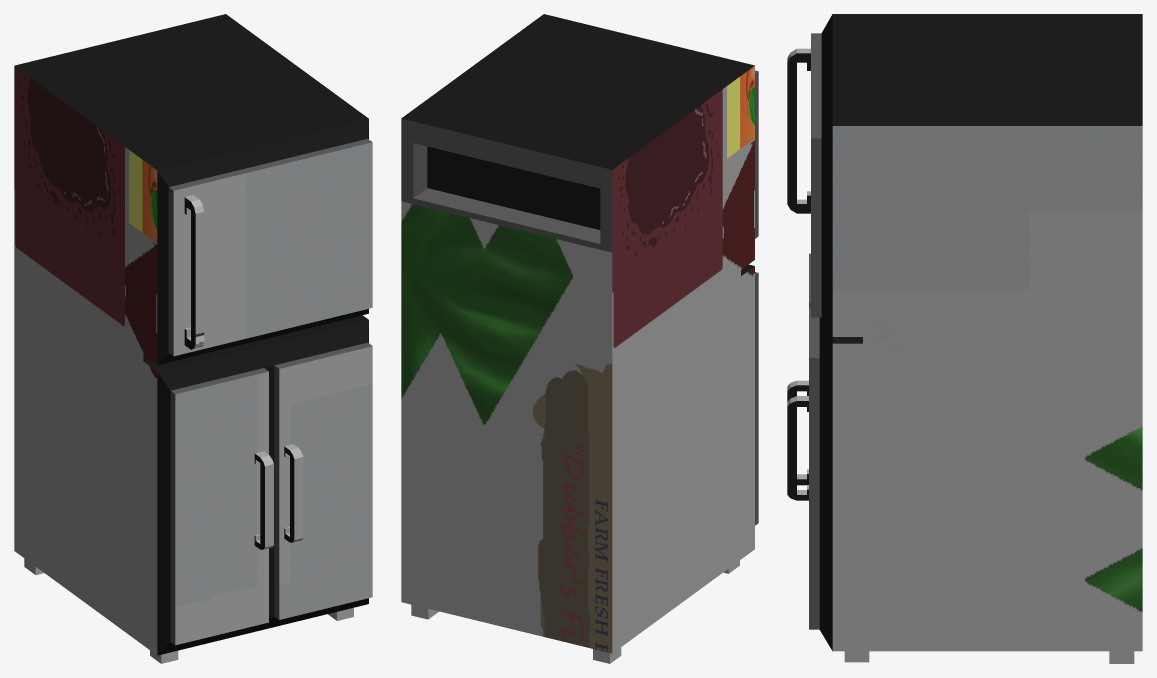
The model's file is fridge 9.fbx.
3 renders of one model, left to right at view 1: azimuth 30°, elevation 25°; view 2: azimuth 150°, elevation 25°; view 3: azimuth 270°, elevation 25°, orthographic. The views are drawn at different scales.
Parts seen in each view (by area): view 1: Cube; view 2: Cube; view 3: Cube.
Boxes of the visible parts, box(x1,y1,x2,y2) form: Cube: box(14, 14, 372, 663); Cube: box(401, 14, 758, 663); Cube: box(787, 14, 1142, 663).
Size of the model in its own units: 171 by 385 by 229.
